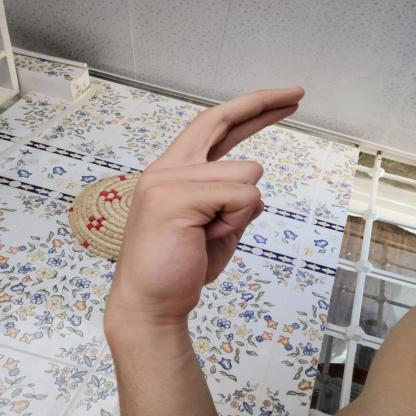ZAY: (96, 74, 318, 331)
